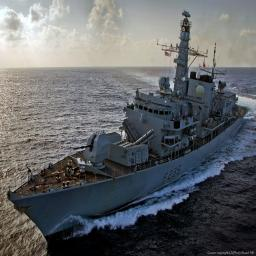Fragata: (1, 4, 175, 249)
